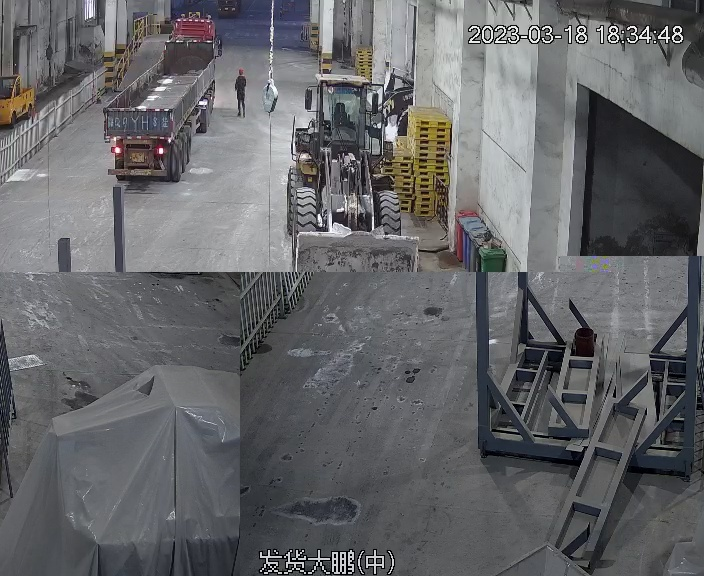head: (235, 66, 246, 82)
helmet: (238, 66, 245, 72)
people: (233, 64, 247, 118)
truck: (97, 9, 222, 184)
